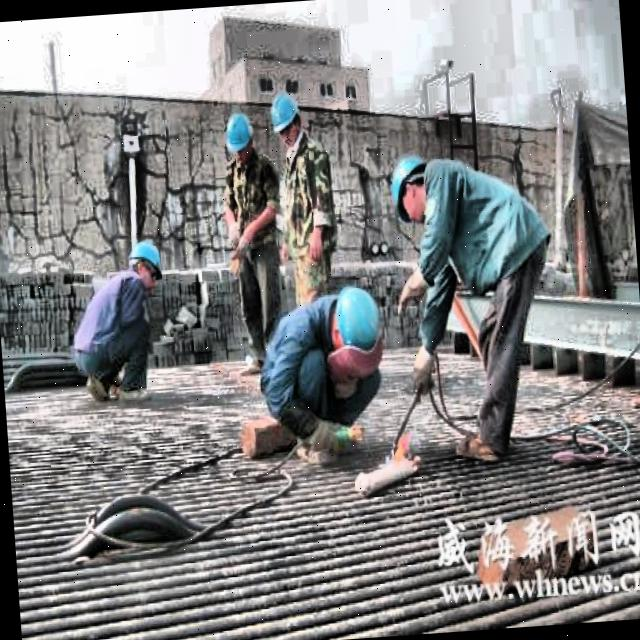helmet: (326, 282, 388, 373), (386, 146, 436, 228), (220, 104, 258, 174), (266, 88, 306, 153), (124, 236, 168, 290)
